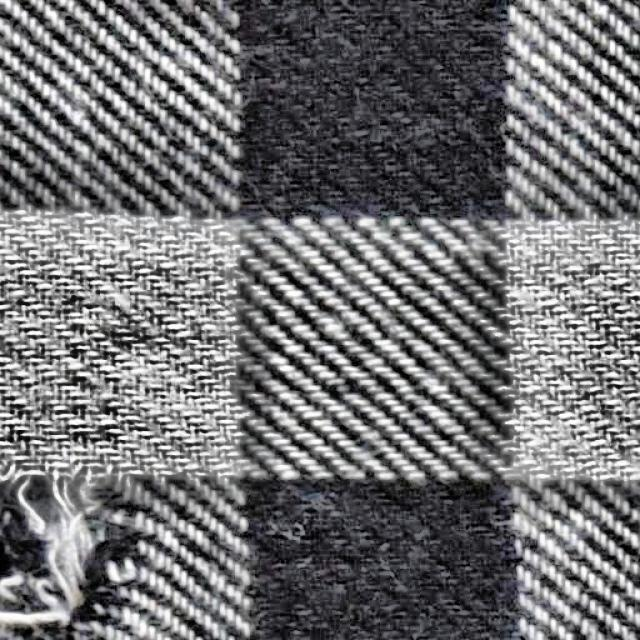cut: (1, 407, 193, 640)
